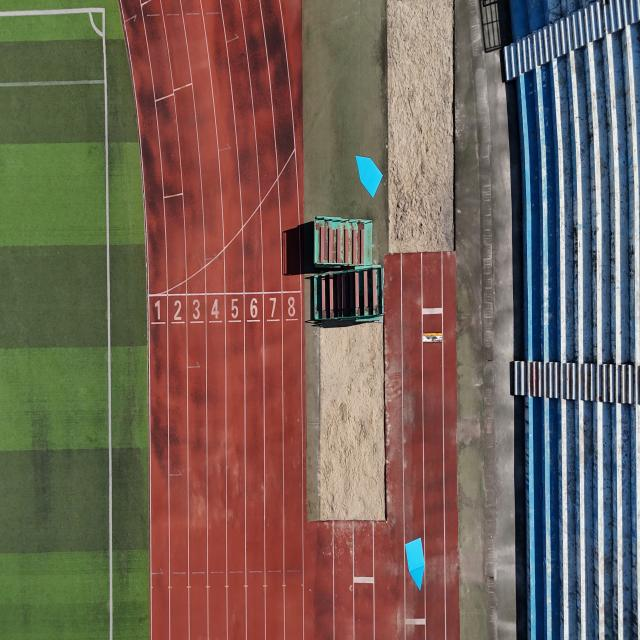board: (355, 156, 383, 198), (405, 537, 425, 592)
